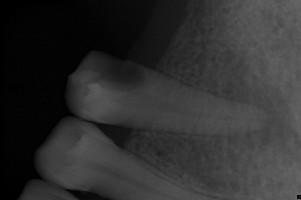Furcation Involvement: (224, 86, 296, 145)
